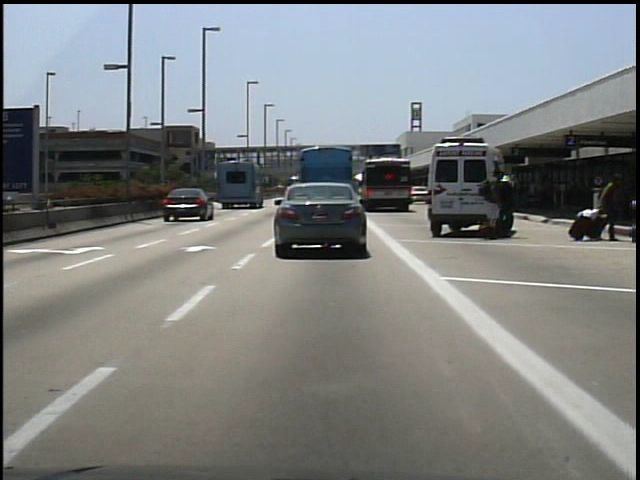person: (596, 167, 623, 245), (480, 167, 504, 240), (499, 173, 517, 239)
